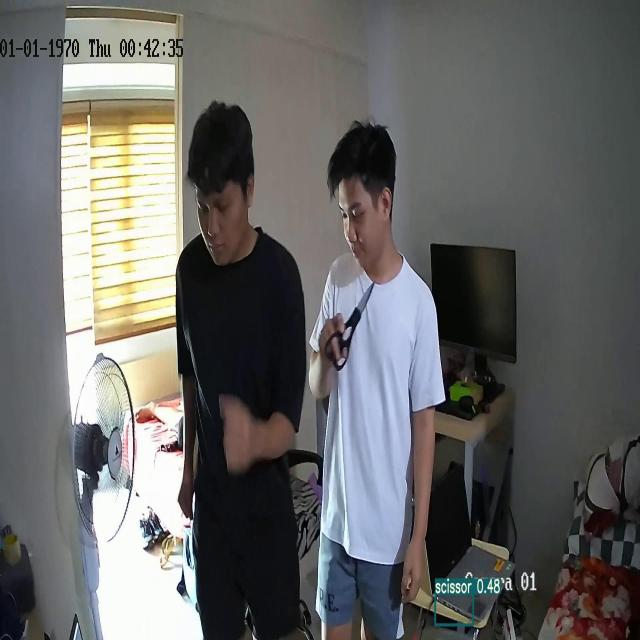scissor: (325, 280, 374, 371)
